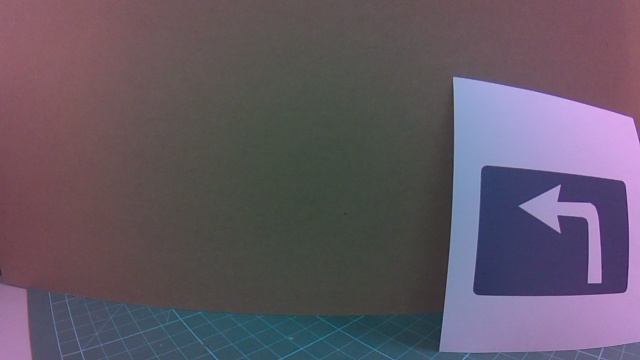left: (450, 147, 635, 315)
